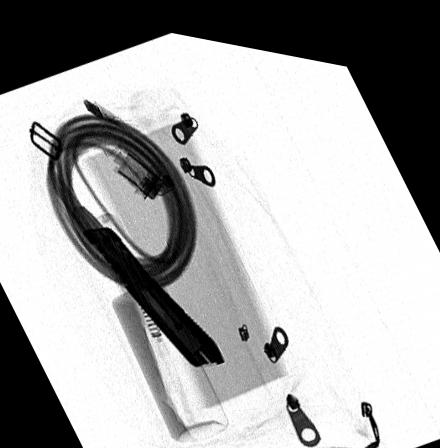Knife: (42, 167, 226, 360)
